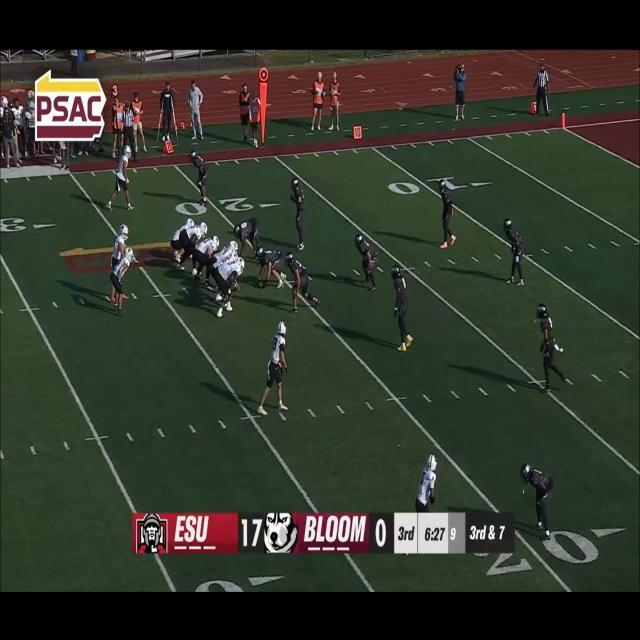football: (232, 279, 240, 293)
